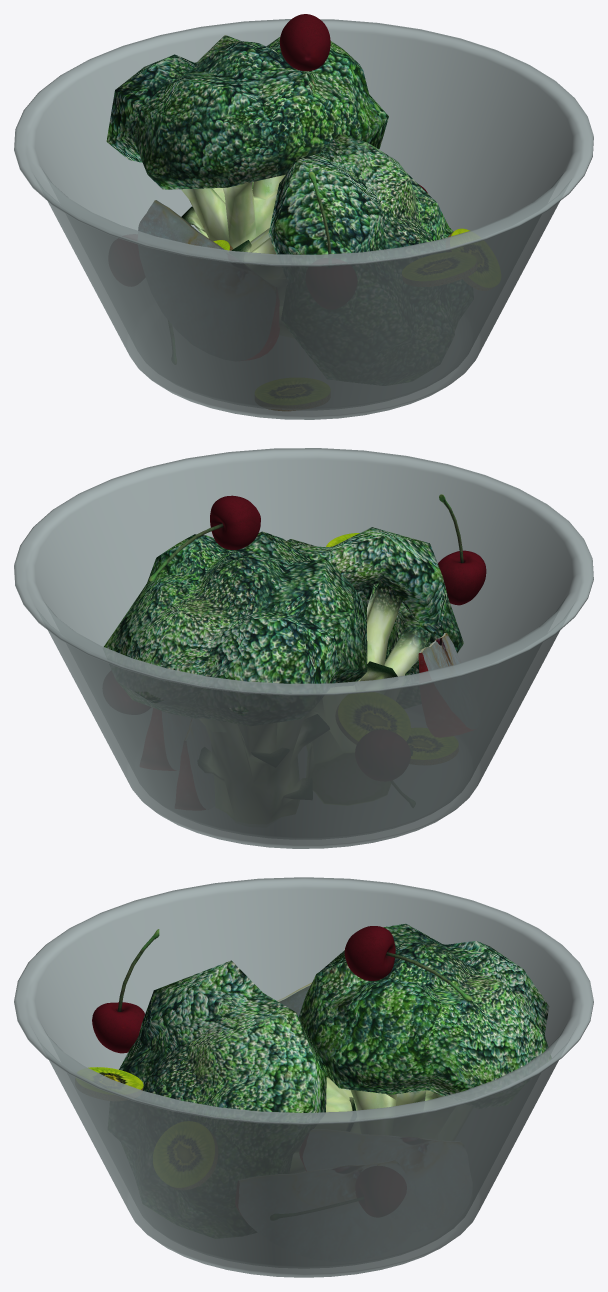
Rendered from salad_bowl.fbx.
3 views of the same model, one above another, from view 1: azimuth 30°, elevation 25°; view 2: azimuth 150°, elevation 25°; view 3: azimuth 270°, elevation 25° (orthographic).
Parts seen in each view (by area): view 1: salad_bowl, broccoli, cherry, apple_slice; view 2: salad_bowl, broccoli, cherry, apple_slice; view 3: salad_bowl, broccoli, cherry, kiwi.
Part boxes in pixels (<box>): salad_bowl: <box>14,19,593,419</box>; broccoli: <box>106,35,453,254</box>; cherry: <box>279,14,427,254</box>; apple_slice: <box>138,200,223,249</box>; salad_bowl: <box>14,448,593,848</box>; broccoli: <box>104,527,463,716</box>; cherry: <box>149,494,486,605</box>; apple_slice: <box>418,632,461,672</box>; salad_bowl: <box>14,877,593,1277</box>; broccoli: <box>119,923,551,1112</box>; cherry: <box>92,926,472,1053</box>; kiwi: <box>88,1067,328,1090</box>.
Bounding box in the file's own units: 17.77 × 10.17 × 17.77.
5 materials, 4 textured.
